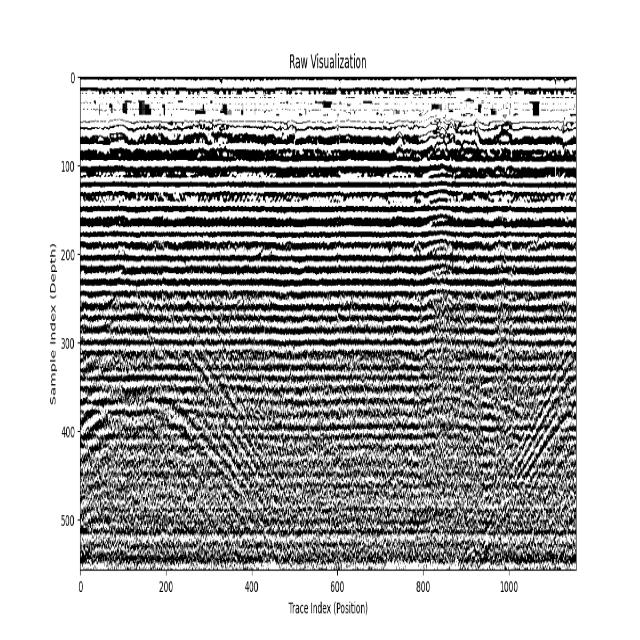anomaly: (80, 300, 292, 572), (456, 336, 576, 568)
